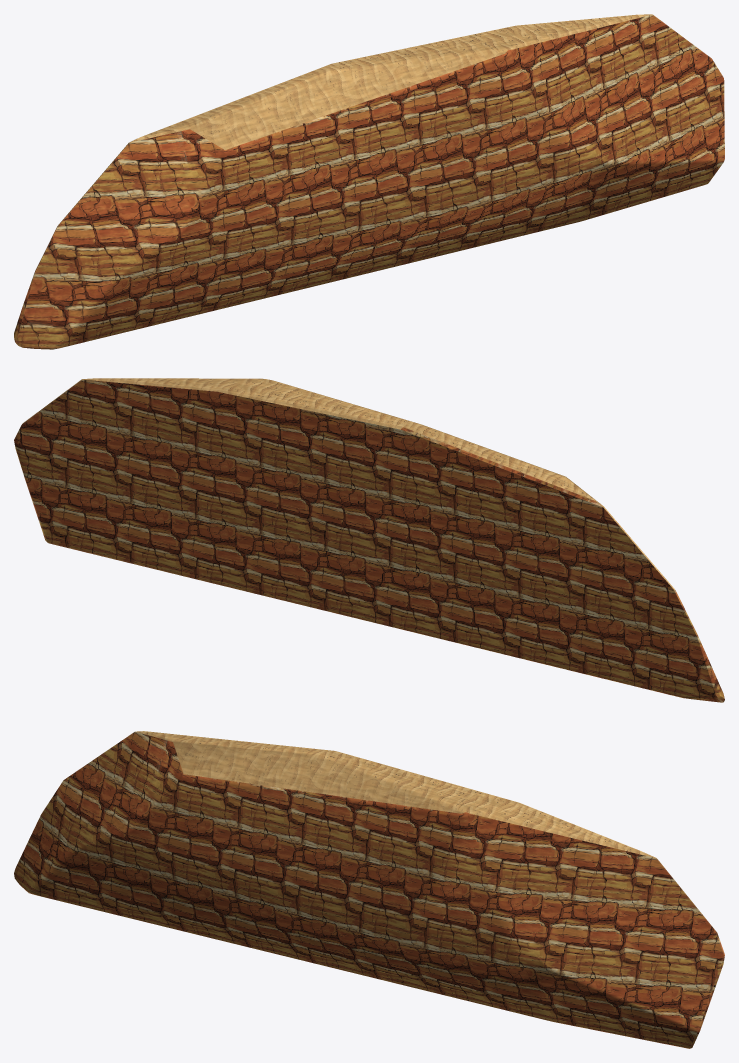
The model's file is v4_cliff_n_00.glb.
3 views of the same model, one above another, from view 1: azimuth 30°, elevation 25°; view 2: azimuth 150°, elevation 25°; view 3: azimuth 330°, elevation 25° (orthographic).
Visible parts, largest first — view 1: v4_cliff_n_00; view 2: v4_cliff_n_00; view 3: v4_cliff_n_00.
Part boxes in pixels (left/top/right/bottom): v4_cliff_n_00: left=14, top=14, right=724, bottom=349; v4_cliff_n_00: left=14, top=378, right=724, bottom=702; v4_cliff_n_00: left=14, top=731, right=724, bottom=1048.
Size of the model in its own units: 21.89 by 6 by 2.
Materials: 1 (1 with a texture image).
